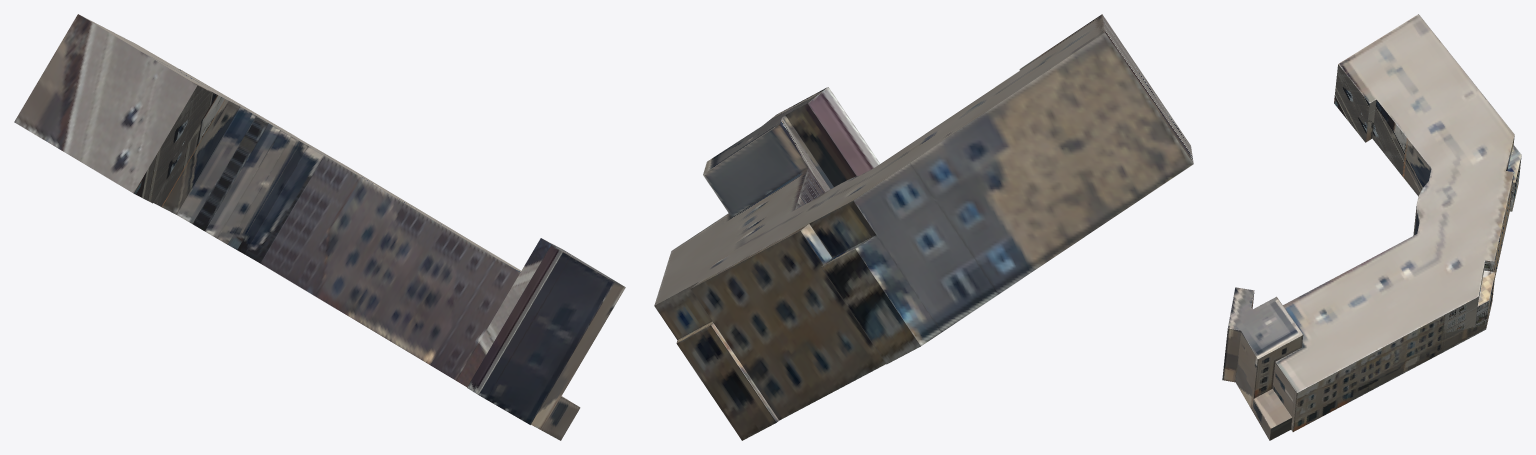
3 views of the same model, side by side, from view 1: azimuth 30°, elevation 25°; view 2: azimuth 150°, elevation 25°; view 3: azimuth 270°, elevation 25° (orthographic). The views are drawn at different scales.
Visible parts, largest first — view 1: BAG_0599100000656922 (×5); view 2: BAG_0599100000656922 (×6); view 3: BAG_0599100000656922 (×6).
Part boxes in pixels (x1=…): BAG_0599100000656922 (×5): x1=14, y1=14, x2=625, y2=440; BAG_0599100000656922 (×6): x1=654, y1=14, x2=1193, y2=440; BAG_0599100000656922 (×6): x1=1222, y1=14, x2=1521, y2=440.
Bounding box in the file's own units: 51.85 × 43.7 × 39.33.
Materials: 1 (1 with a texture image).
